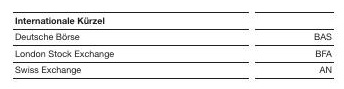table: (0, 0, 344, 89)
